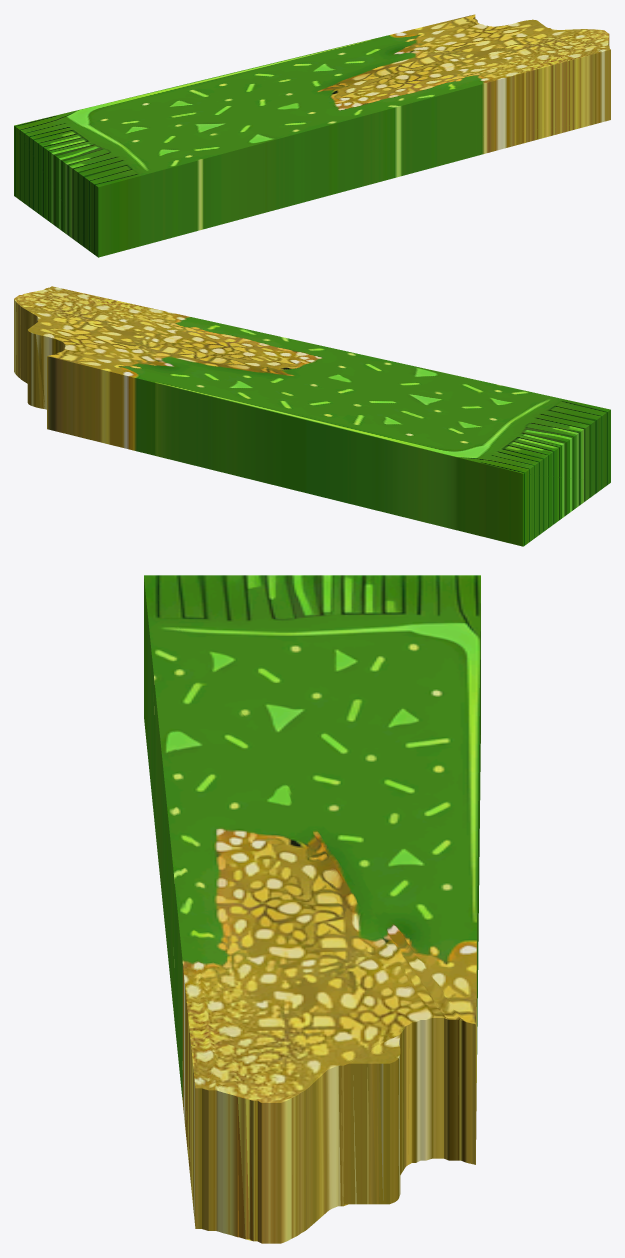
The model's file is InvCandy.glb.
3 views of the same model, one above another, from view 1: azimuth 30°, elevation 25°; view 2: azimuth 150°, elevation 25°; view 3: azimuth 270°, elevation 25° (orthographic). The views are drawn at different scales.
Visible parts, largest first — view 1: InvCandy; view 2: InvCandy; view 3: InvCandy.
Part boxes in pixels (box(x1,y1,x2,y2)): InvCandy: box(14, 14, 610, 257); InvCandy: box(14, 286, 610, 546); InvCandy: box(144, 575, 480, 1243).
Size of the model in its own units: 53.63 by 6.67 by 14.5.
1 material, 1 textured.
